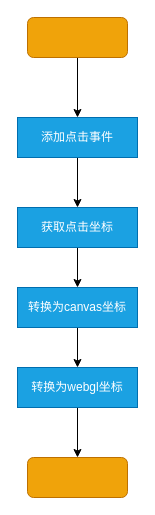
Image size: 155x515. Some labels were removed from this diagram. The shapes that lost their labels are listed below. From the top down, each one's box as (x1, y1, x2, y2) in pixels, then its label:
(26, 16, 128, 58): 开始
(26, 456, 128, 498): 绘图
